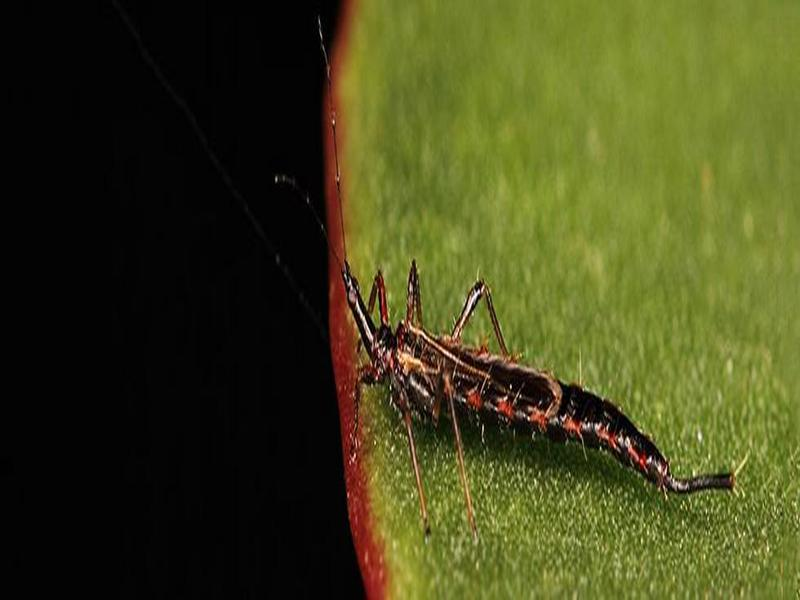Thrips: (317, 266, 752, 531)
